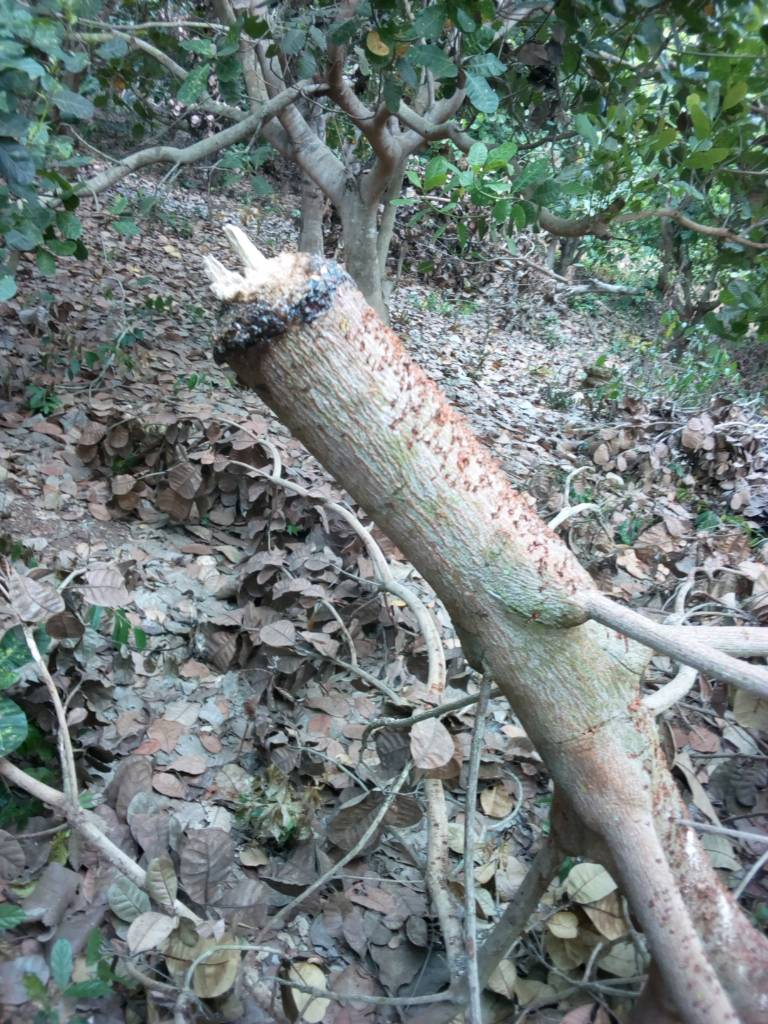Analepse trifasciata: (165, 224, 379, 391)
